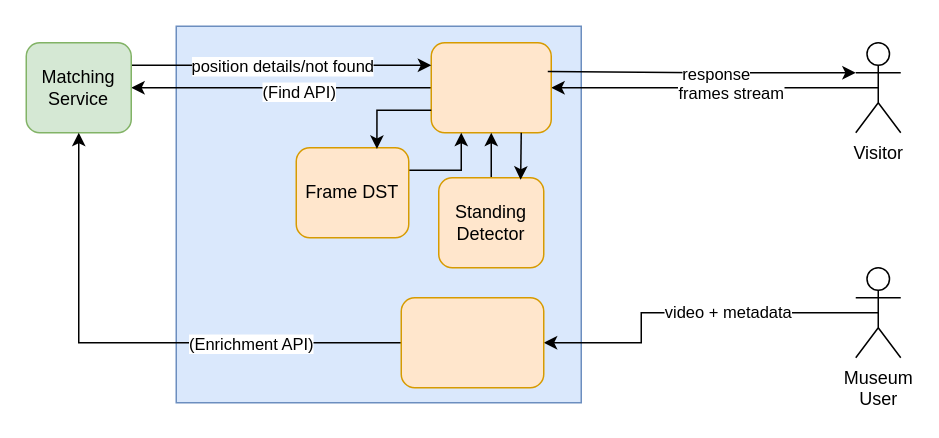
Some shapes in this 939 by 438 pixel diagram are drawn without their labels. Each missing label, with the centre of its shape:
Enriching Service: point 472,342
Frames Selector: point 490,87
